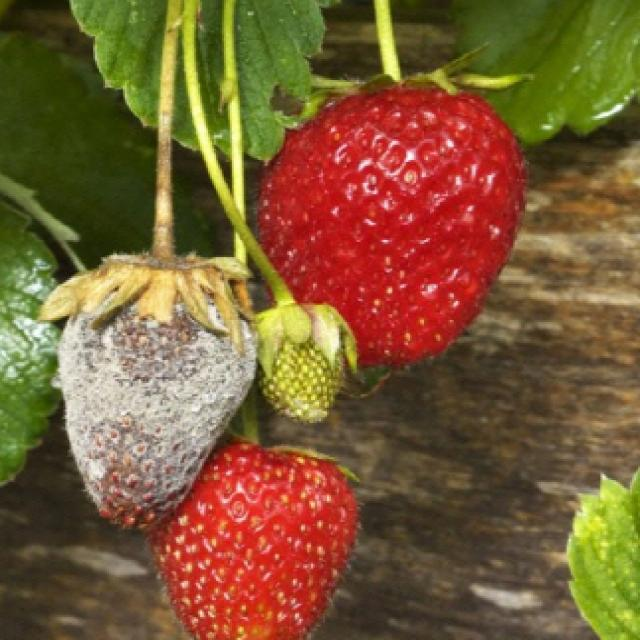Gray Mold: (37, 252, 260, 534)
